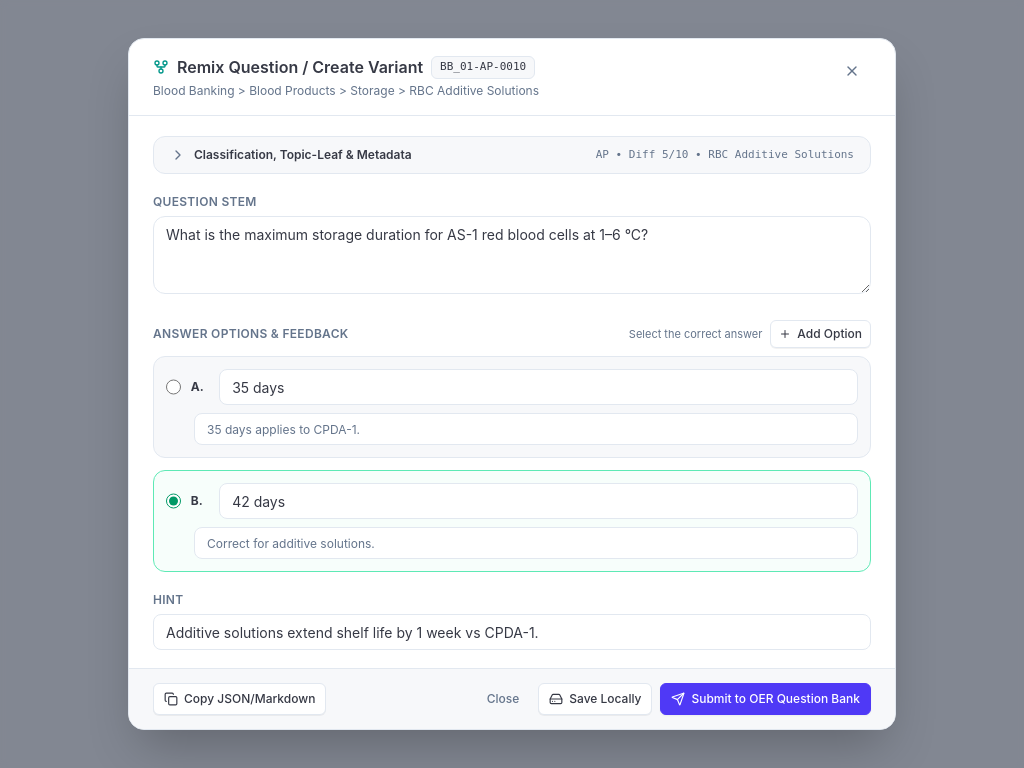
Test: QuestionRemixModal › allows editing topic-leaf & stem, saves locally, and submits variant issue to OER Question Bank
Note: Expand Classification, Topic-Leaf & Metadata
Click the button "Classification, Topic-Leaf & Metadata" at (303, 155), box left=154, top=137, right=870, bottom=173
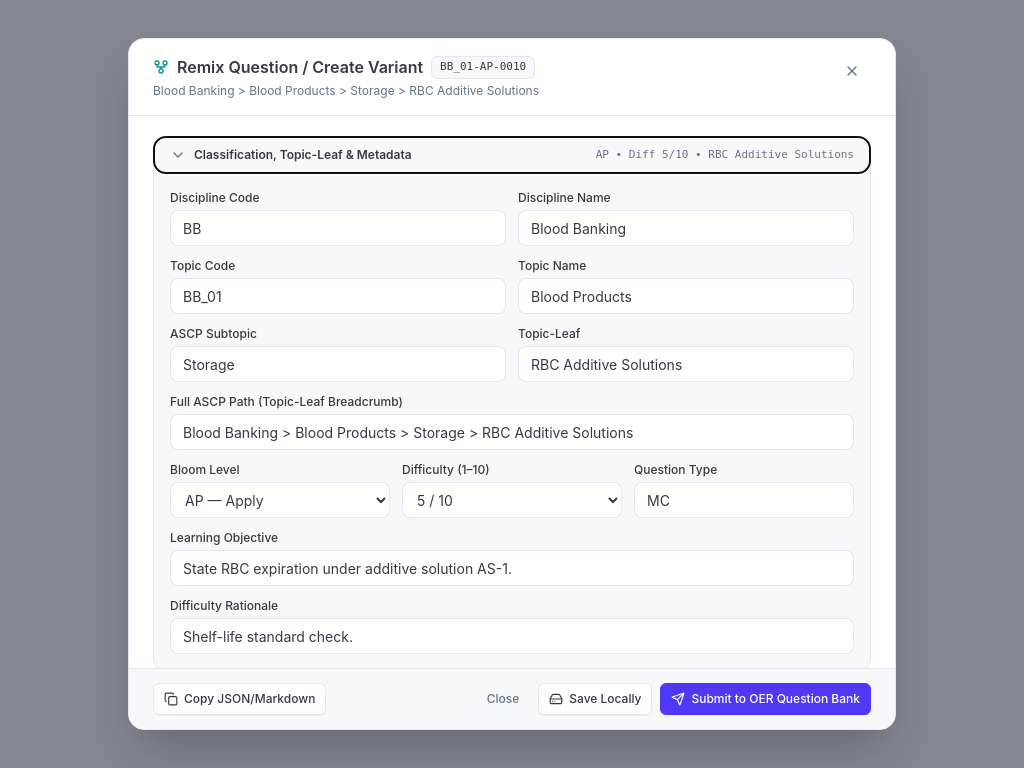
Replace the text in the 6th field with placeholder "e.g., Qualification" with "CPDA-1 Storage" at (686, 364), box left=518, top=346, right=854, bottom=382
(page scrolled)
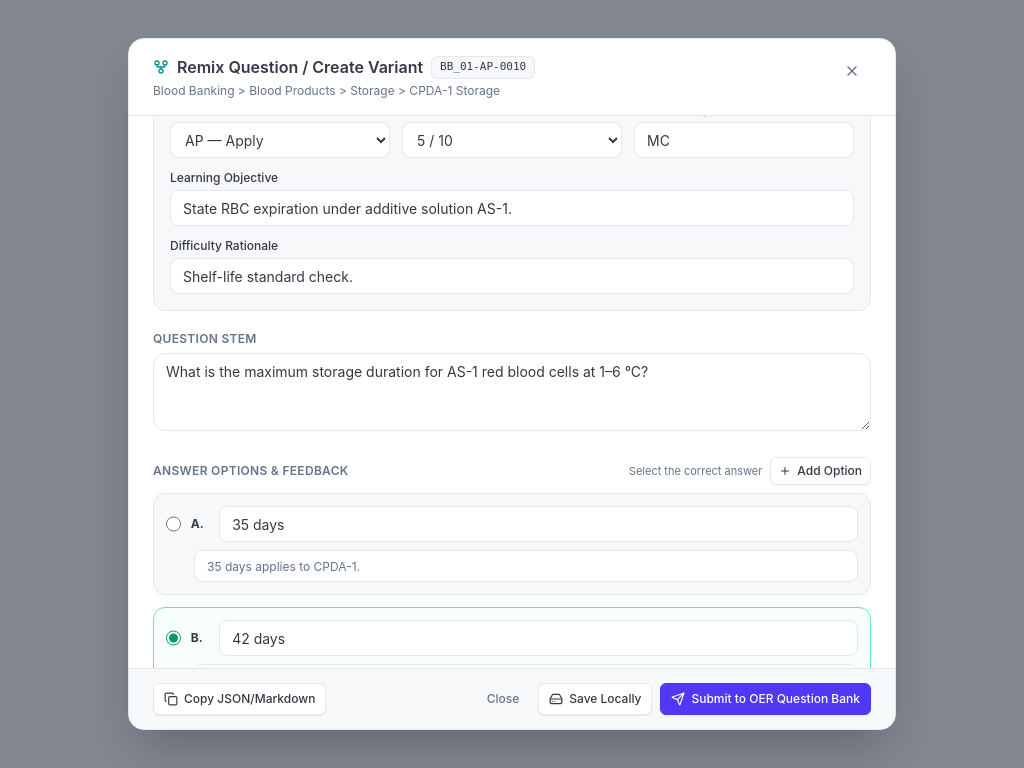
Note: Update stem
Replace the text in the text box labelled "Question Stem" with "What is the maximum storage duration for CPDA-1 red blood cells?" at (512, 392), box left=153, top=353, right=871, bottom=431
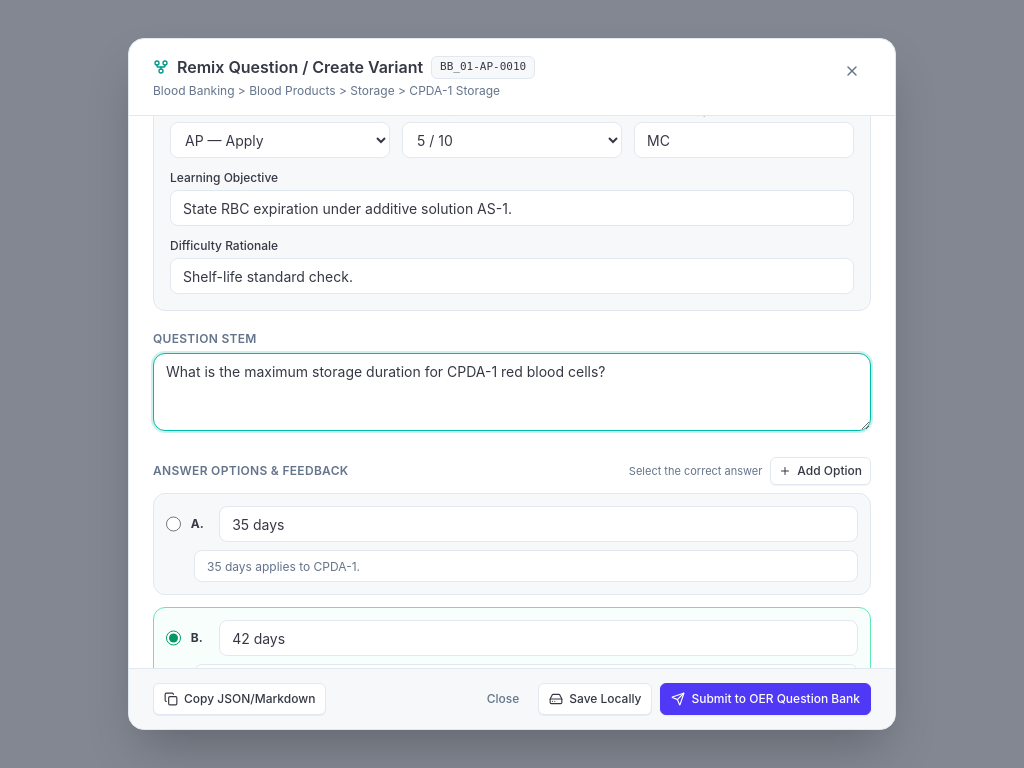
Note: Mark option A as correct
Click the radio button named "Mark option A as correct" at (173, 524), box left=166, top=516, right=181, bottom=532
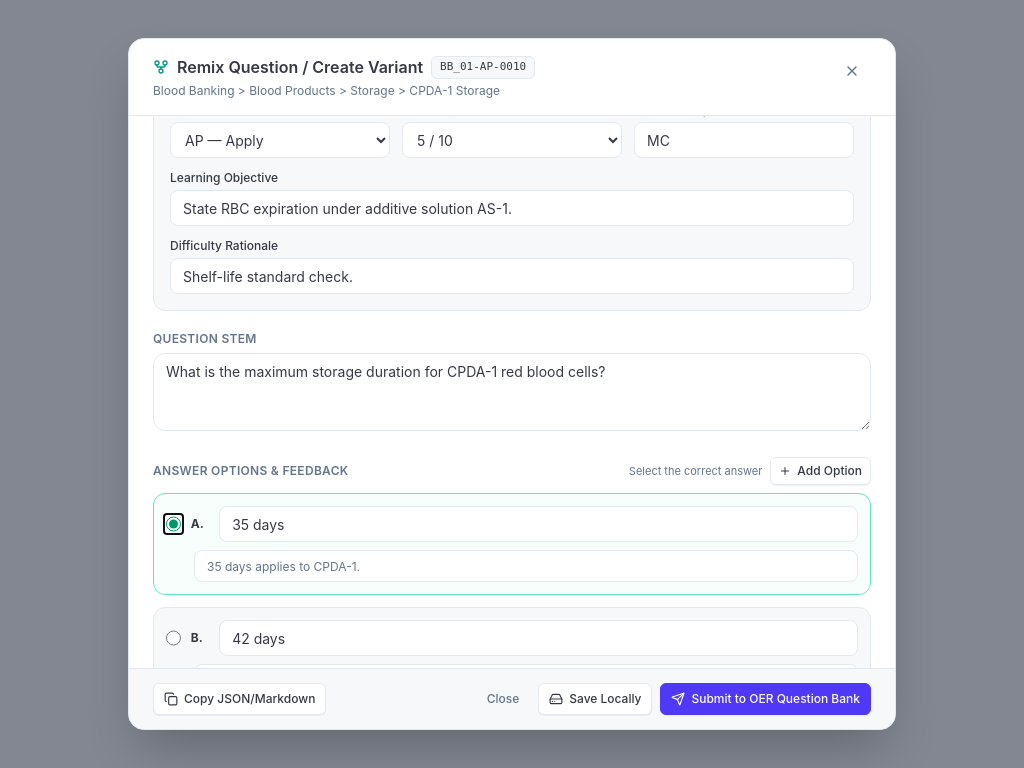
Note: Save locally first
Click the button "Save Locally" at (595, 699), box left=538, top=683, right=652, bottom=715
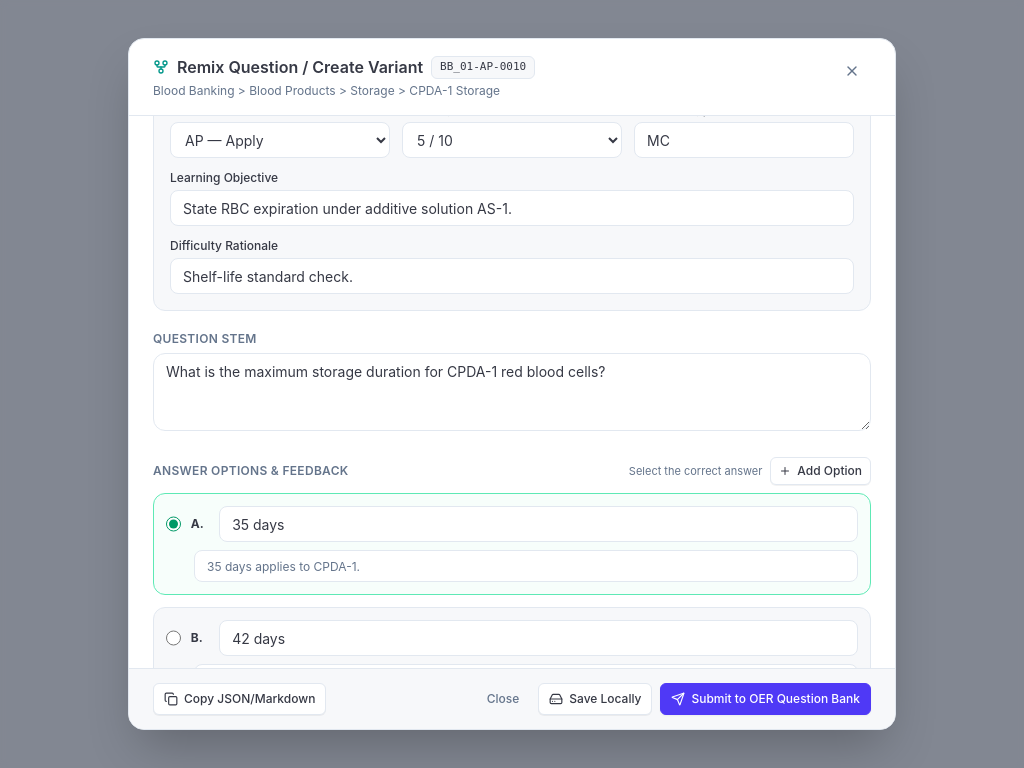
Note: Submit to OER Question Bank
Click the button "Submit to OER Question Bank" at (766, 699), box left=660, top=683, right=871, bottom=715
(page scrolled)
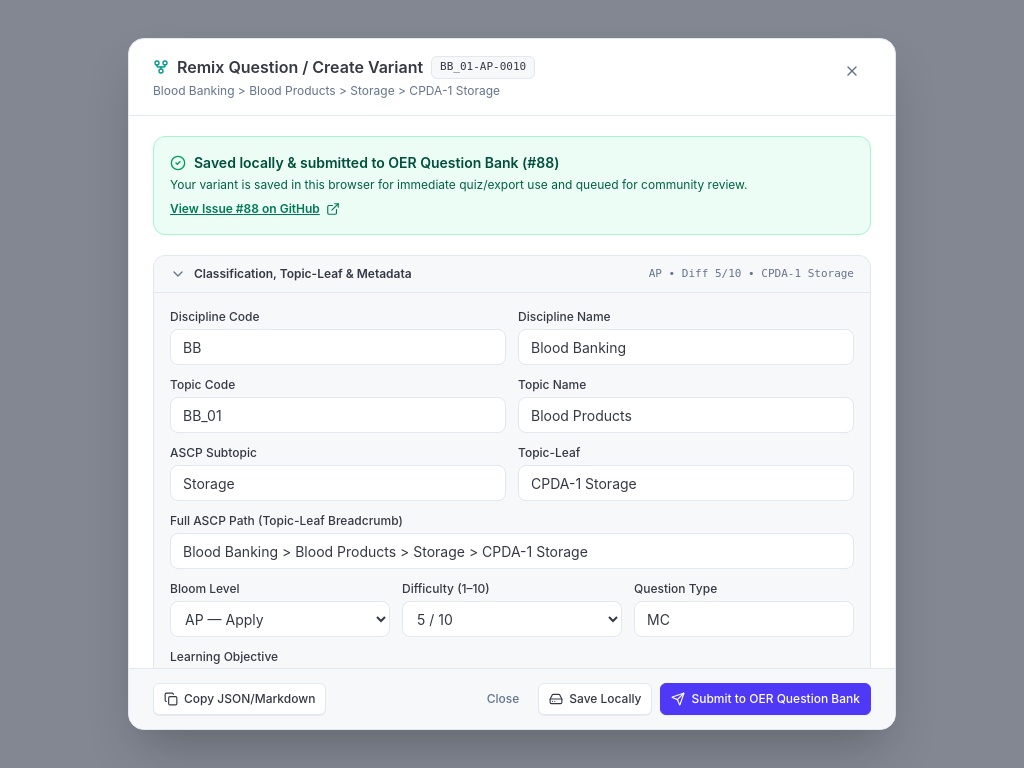
Result: the link "View Issue #88 on GitHub" is shown at left=170, top=201, right=340, bottom=217
